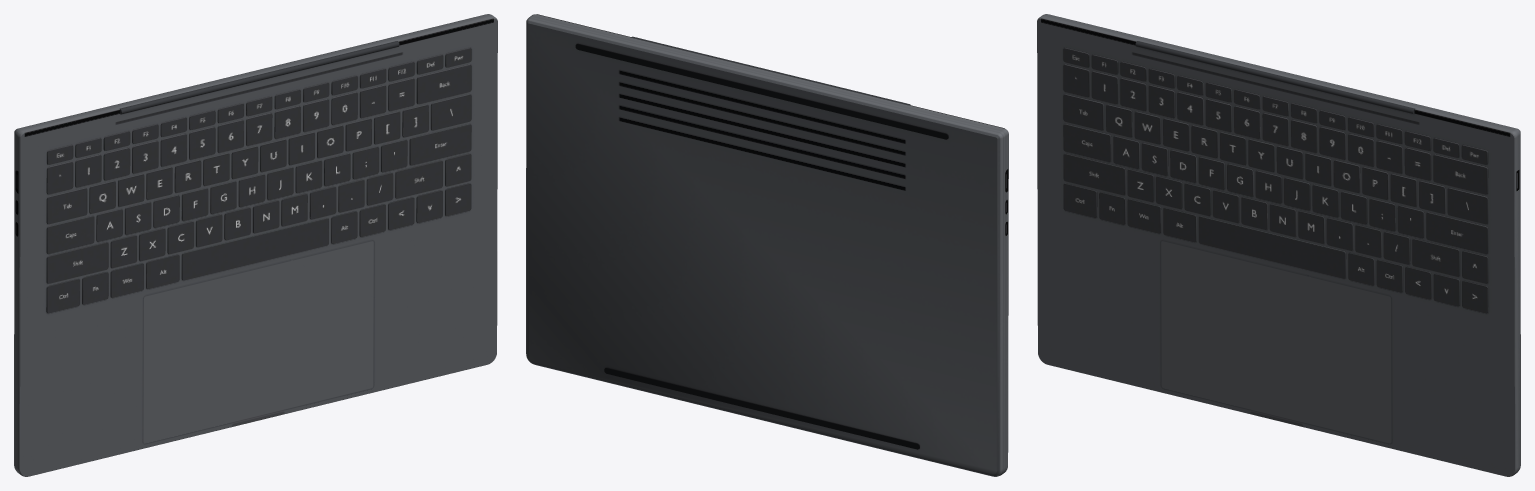
File: body.obj
3 views of the same model, side by side, from view 1: azimuth 30°, elevation 25°; view 2: azimuth 150°, elevation 25°; view 3: azimuth 330°, elevation 25° (orthographic).
Parts seen in each view (by area): view 1: deck, keys, base.003, base.004, hinge, base.005; view 2: base, base.006, base.003, base.004, hinge; view 3: deck, keys, base.003, base.002, hinge, base.005.
Boxes of the visible parts, bbox=[...] form: deck: bbox=[20, 18, 497, 476]; keys: bbox=[46, 47, 471, 313]; base.003: bbox=[15, 14, 495, 134]; base.004: bbox=[14, 130, 21, 475]; hinge: bbox=[120, 41, 399, 114]; base.005: bbox=[19, 18, 497, 476]; base: bbox=[526, 20, 1000, 476]; base.006: bbox=[575, 43, 948, 449]; base.003: bbox=[527, 14, 1007, 136]; base.004: bbox=[998, 131, 1008, 475]; hinge: bbox=[631, 36, 910, 105]; deck: bbox=[1037, 18, 1514, 476]; keys: bbox=[1063, 47, 1488, 313]; base.003: bbox=[1039, 14, 1519, 134]; base.002: bbox=[1513, 130, 1520, 475]; hinge: bbox=[1135, 41, 1414, 114]; base.005: bbox=[1037, 18, 1515, 476].
Bounding box in the file's own units: 310 × 215 × 11.6.
8 materials, 6 textured.
